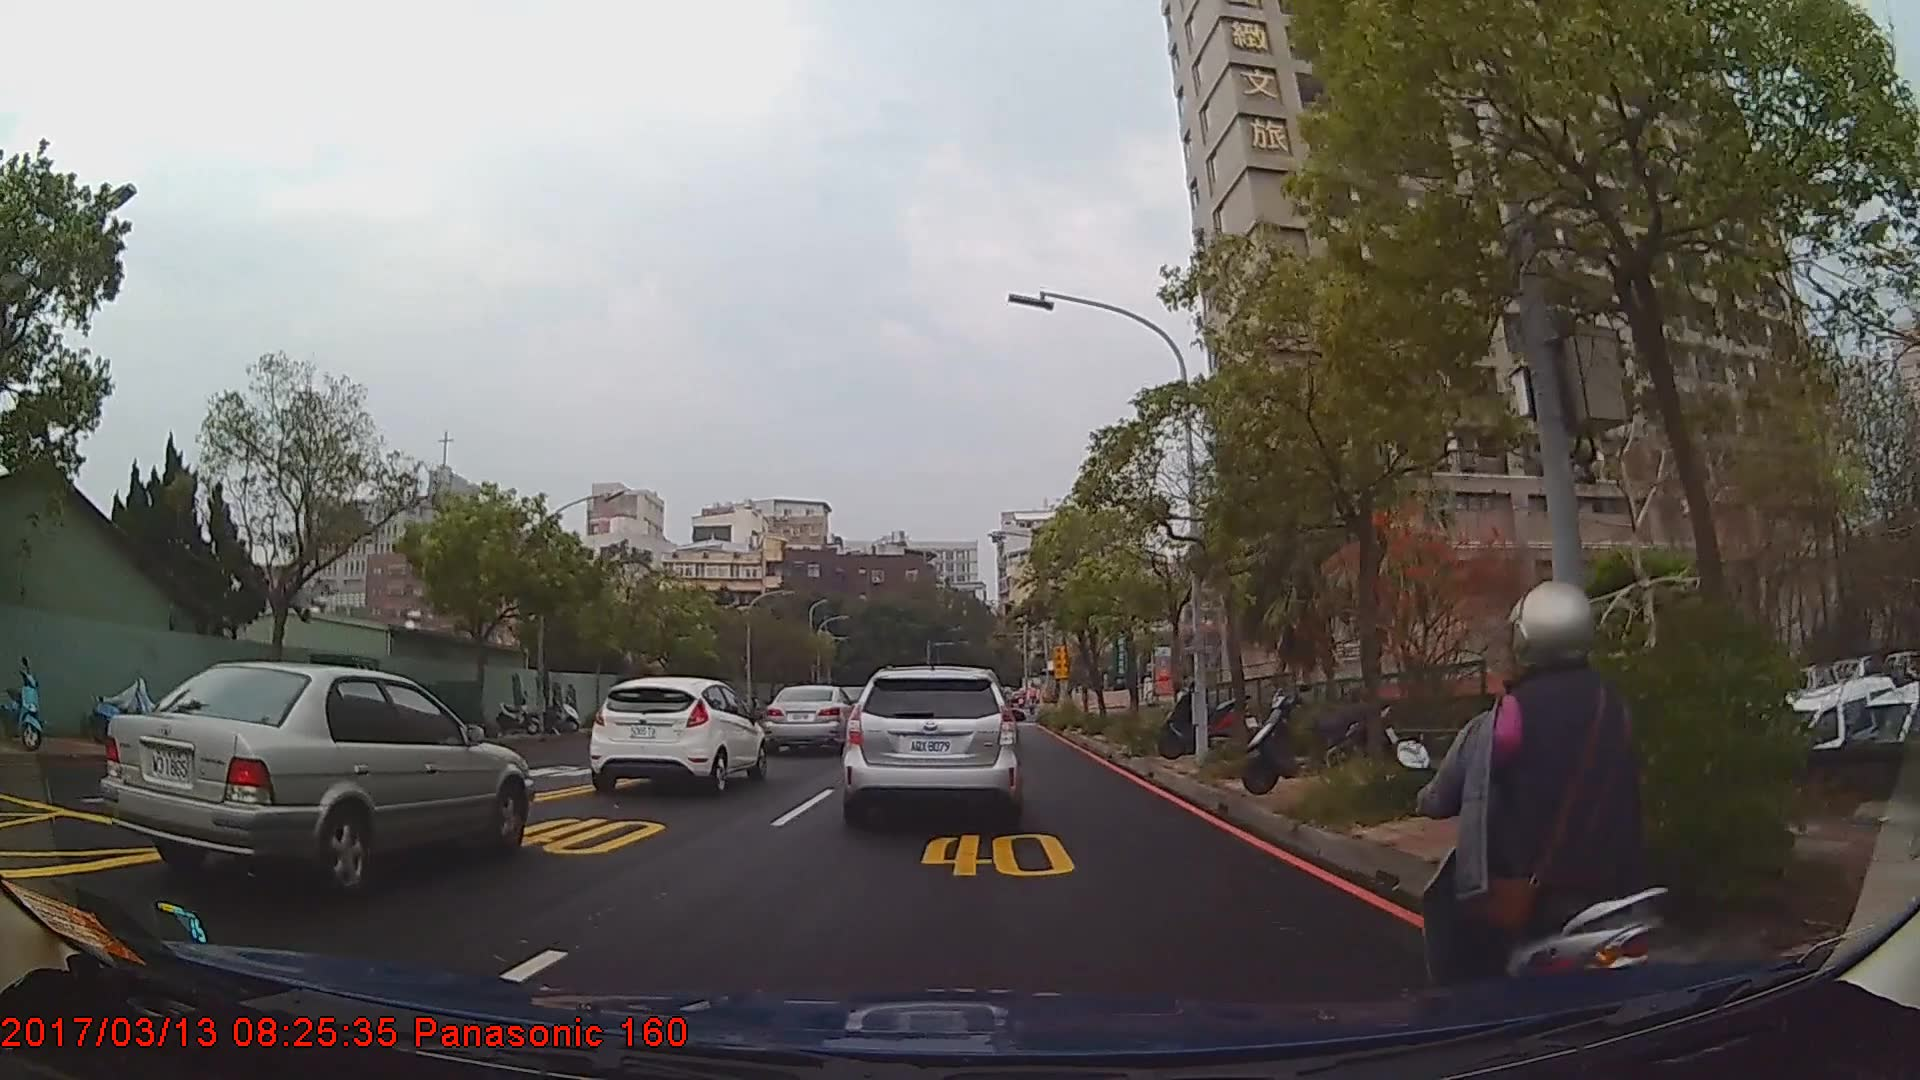rider: (1415, 581, 1670, 1046)
vehicle: (96, 660, 537, 892), (842, 662, 1019, 822), (587, 675, 767, 793), (767, 684, 861, 754)
